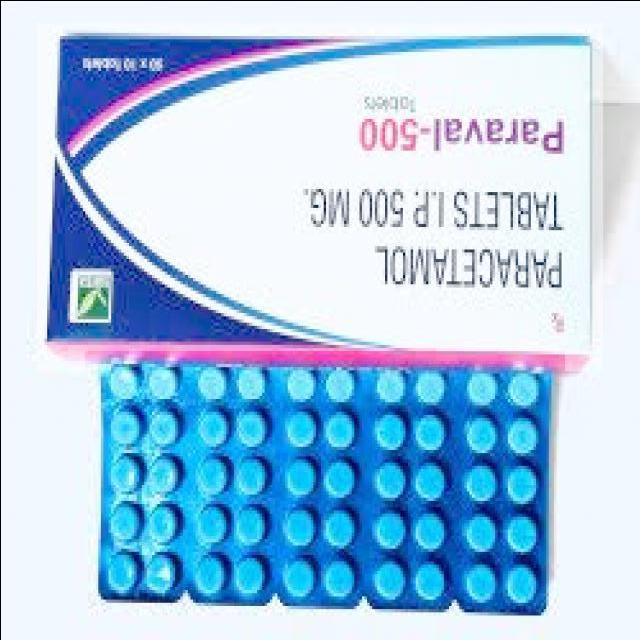authentic: (36, 22, 602, 370), (84, 350, 564, 629)
